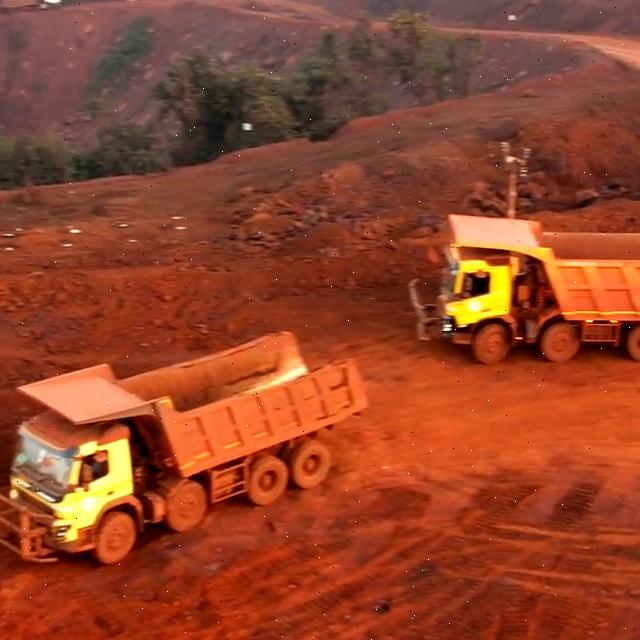Dumper truck: (9, 382, 211, 537), (433, 231, 640, 363)
